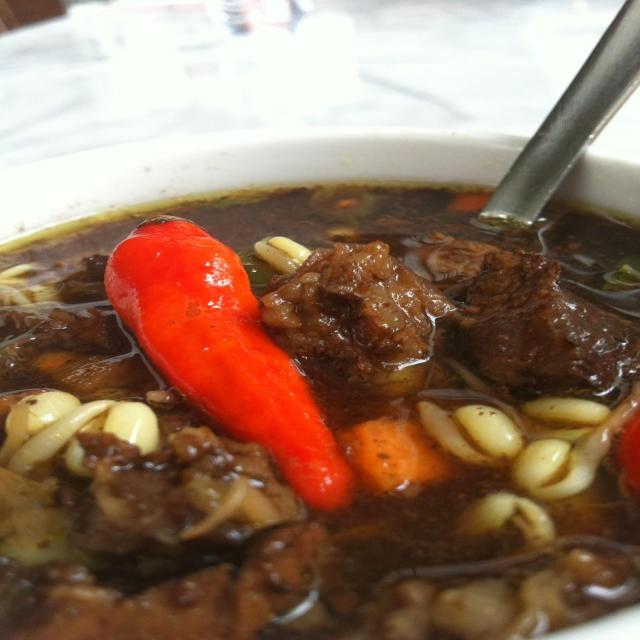Rawon: (0, 176, 640, 630)
